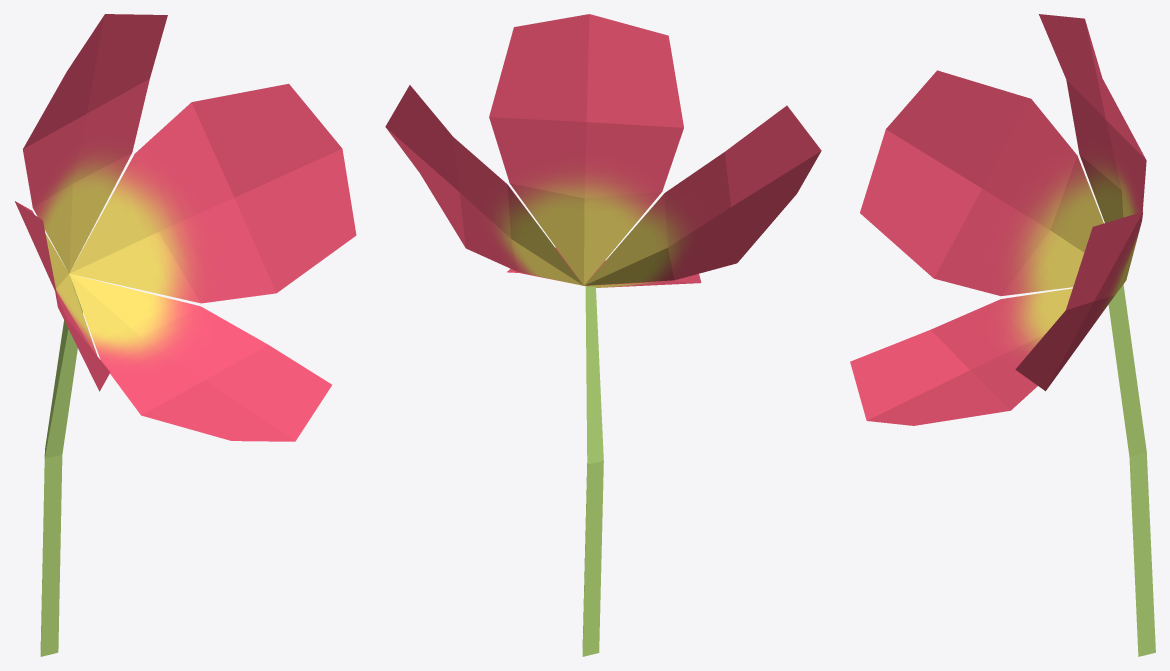
The model's file is Flower_c_OneS_01.fbx.
The picture shows the model from 3 angles, left to right: view 1: azimuth 30°, elevation 25°; view 2: azimuth 150°, elevation 25°; view 3: azimuth 270°, elevation 25°; orthographic projection. The views are drawn at different scales.
Visible parts, largest first — view 1: Flower_c_OneS_01; view 2: Flower_c_OneS_01; view 3: Flower_c_OneS_01.
Part boxes in pixels (left/top/right/bottom): Flower_c_OneS_01: left=15, top=14, right=356, bottom=656; Flower_c_OneS_01: left=385, top=14, right=821, bottom=656; Flower_c_OneS_01: left=850, top=14, right=1155, bottom=656.
Bounding box in the file's own units: 25.65 × 42.67 × 18.26.
